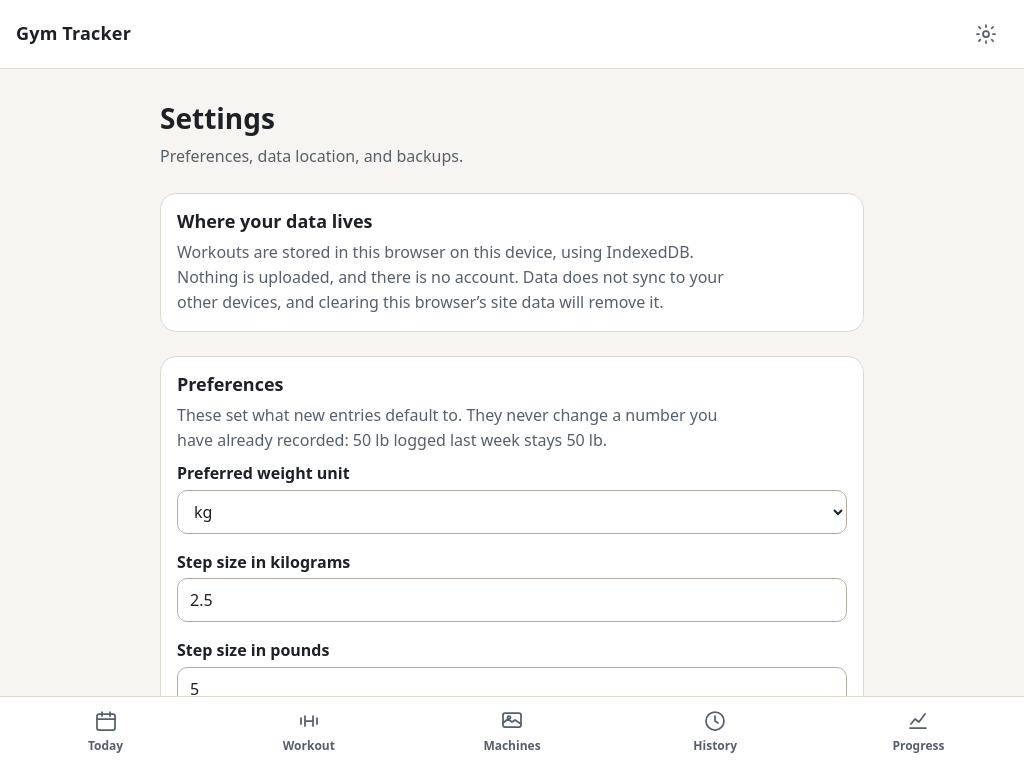
Scenario: the preferences form › saves a change and reports success
Step 1. Select "lb" in the dropdown labelled "Preferred weight unit" → (512, 512), box [177, 490, 847, 534]
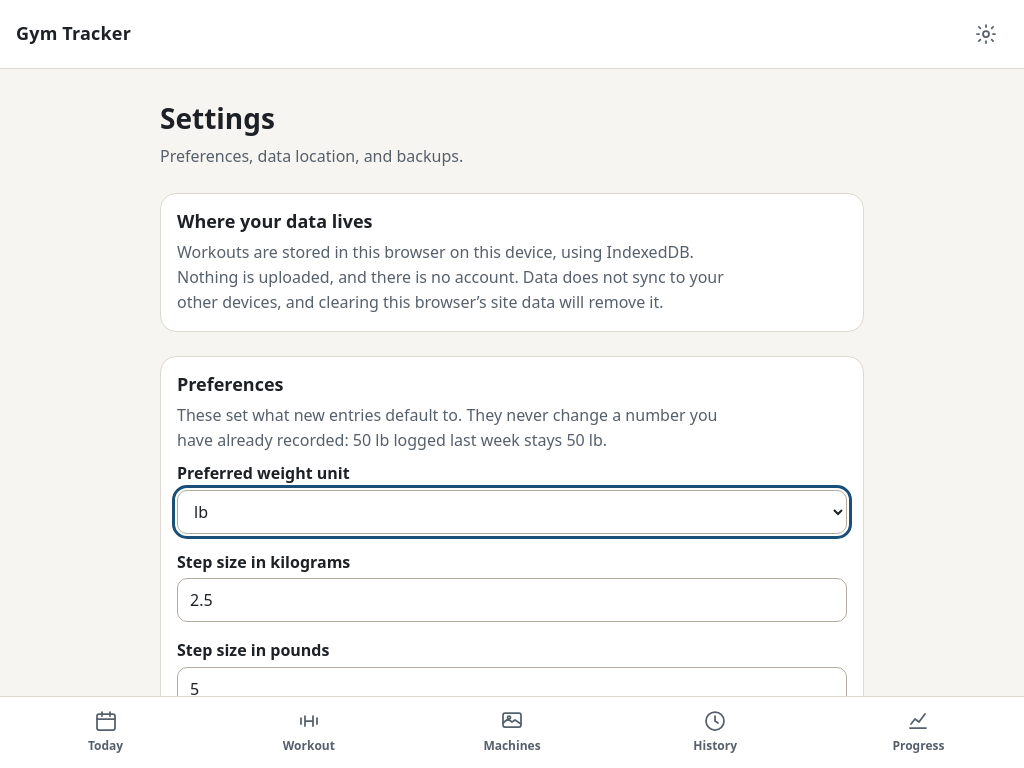
Step 2. Replace the text in the field labelled "Step size in pounds" with "2.5" → (512, 689), box [177, 667, 847, 711]
(page scrolled)
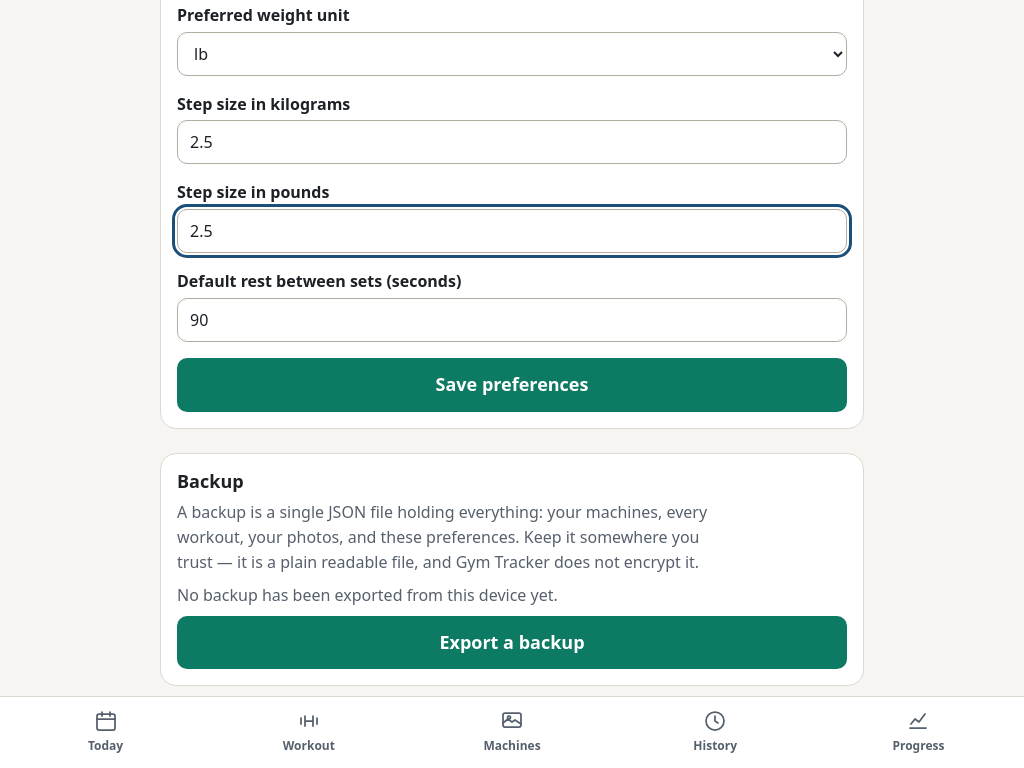
Step 3. Click the button "Save preferences" → click(512, 385), box [177, 358, 847, 412]
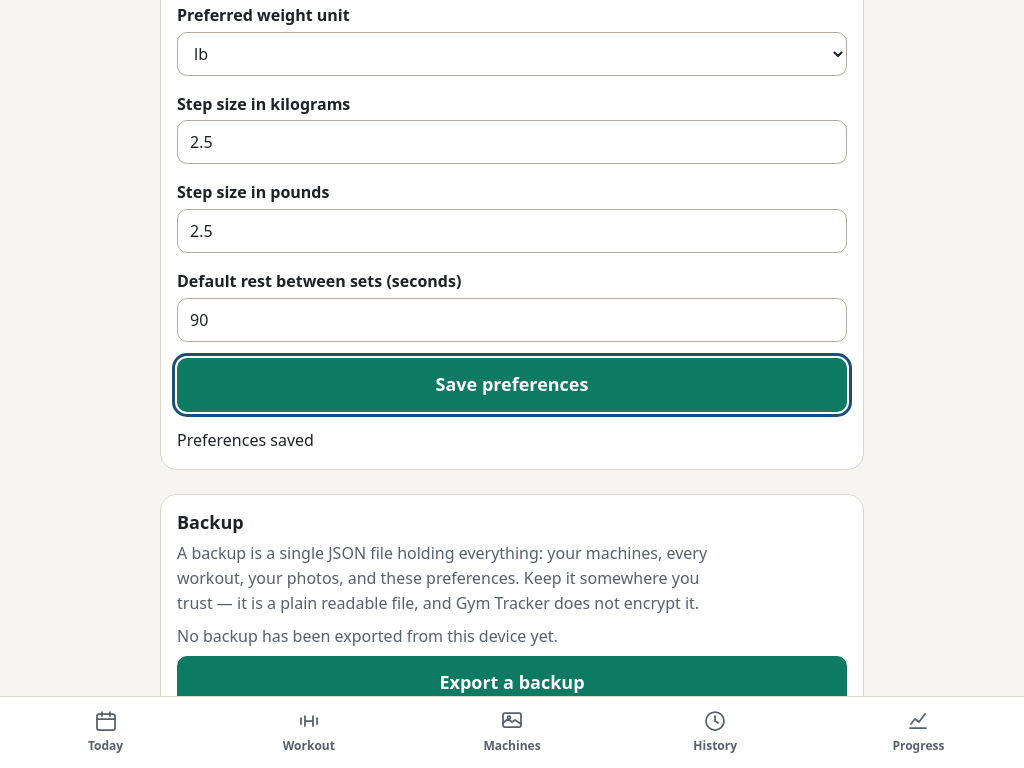
Result: the text "Preferences saved" is shown at [177, 429, 314, 451]
